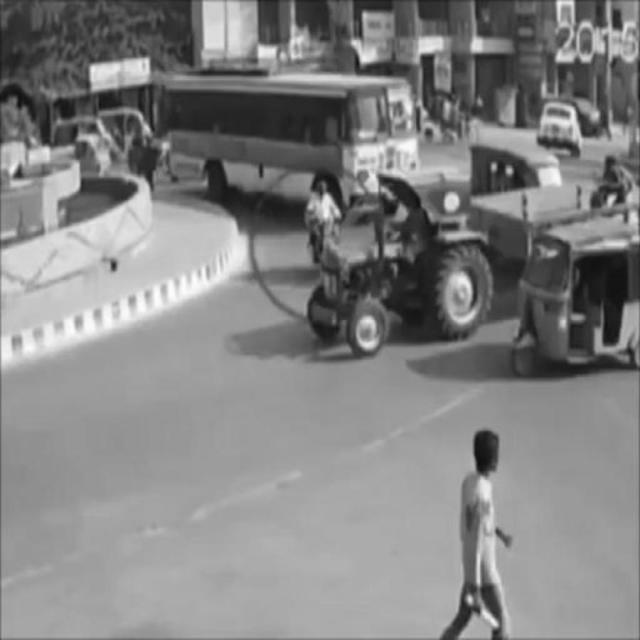person: (434, 432, 515, 639)
vehicle: (309, 171, 627, 351), (162, 71, 418, 215), (524, 225, 640, 375), (304, 180, 350, 272), (538, 103, 585, 154)
